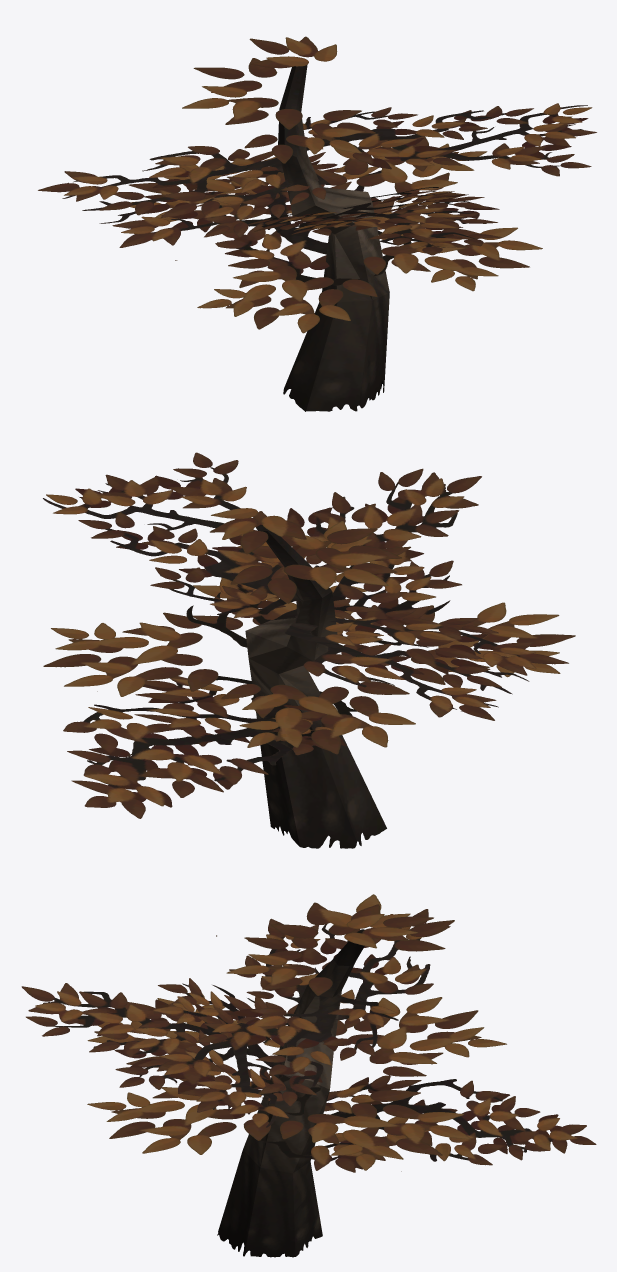
Rendered from cherrytree_bush_dead_01.fbx.
3 renders of one model, top to bottom at view 1: azimuth 30°, elevation 25°; view 2: azimuth 150°, elevation 25°; view 3: azimuth 270°, elevation 25°, orthographic. The views are drawn at different scales.
Visible parts, largest first — view 1: obj1.076; view 2: obj1.076; view 3: obj1.076.
Part boxes in pixels (<box>): obj1.076: <box>38,36,596,411</box>; obj1.076: <box>43,452,575,848</box>; obj1.076: <box>21,894,596,1257</box>.
Size of the model in its own units: 3.34 by 1.91 by 3.21.
